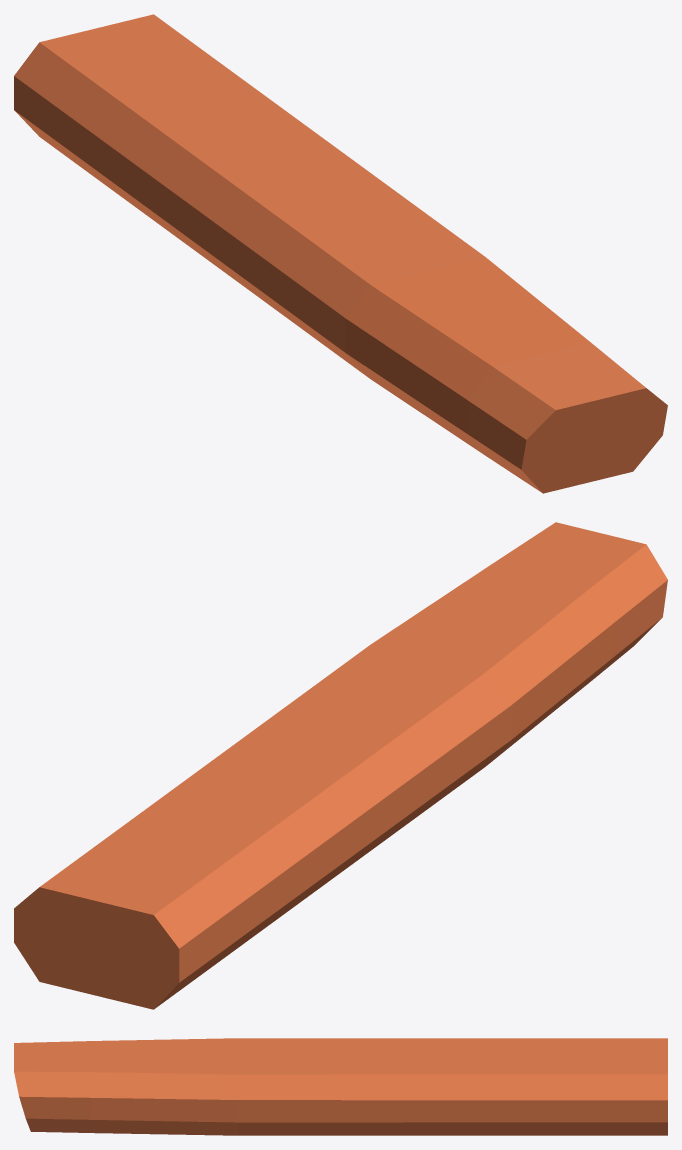
The model's file is CapitalShip_HullCollider1.fbx.
3 renders of one model, top to bottom at view 1: azimuth 30°, elevation 25°; view 2: azimuth 150°, elevation 25°; view 3: azimuth 270°, elevation 25°, orthographic. The views are drawn at different scales.
Parts seen in each view (by area): view 1: CapitalShip_HullCollider1; view 2: CapitalShip_HullCollider1; view 3: CapitalShip_HullCollider1.
Boxes of the visible parts, left/top/right/bottom form: CapitalShip_HullCollider1: left=14, top=14, right=667, bottom=493; CapitalShip_HullCollider1: left=14, top=522, right=667, bottom=1009; CapitalShip_HullCollider1: left=14, top=1038, right=667, bottom=1135.
Bounding box in the file's own units: 200 × 110 × 1058.
